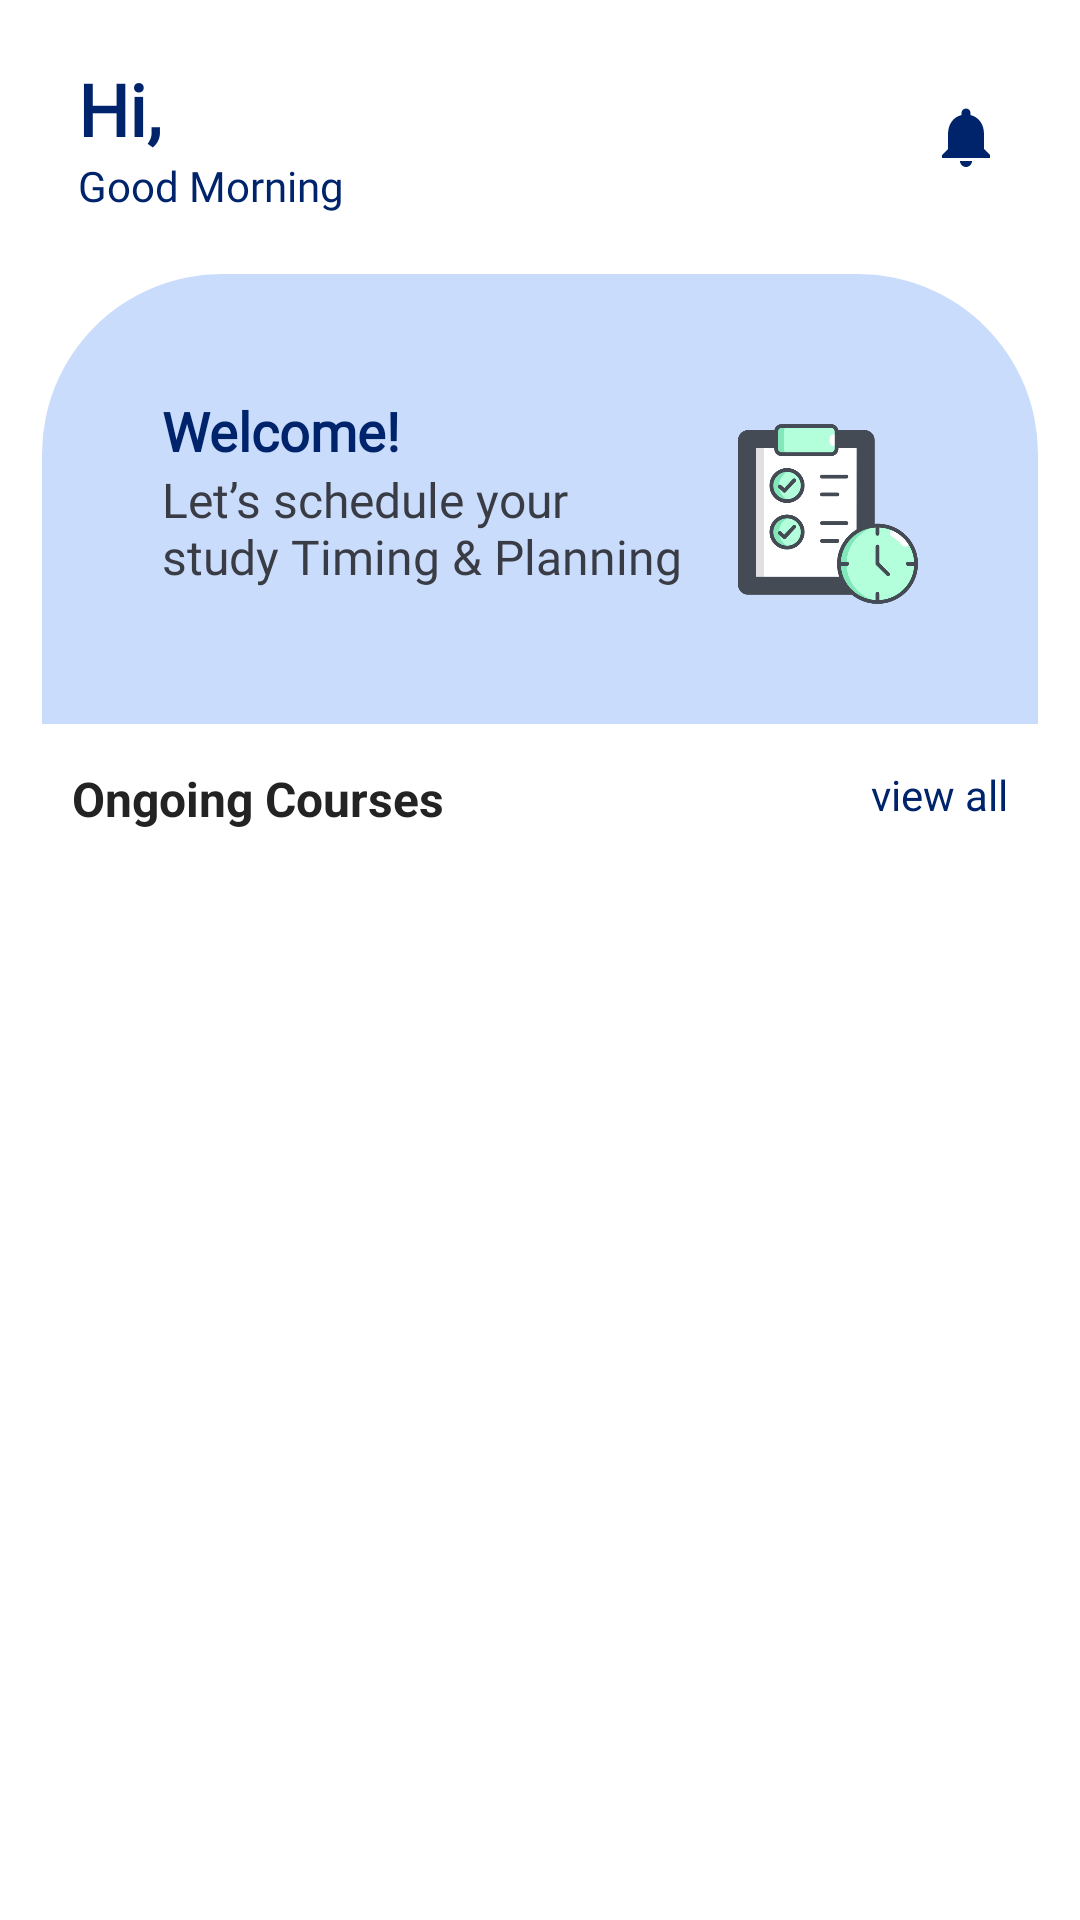

Icons on this 1080×1920 Android screen, each with the point to tap as point (x, y):
notification: point (966, 137)
